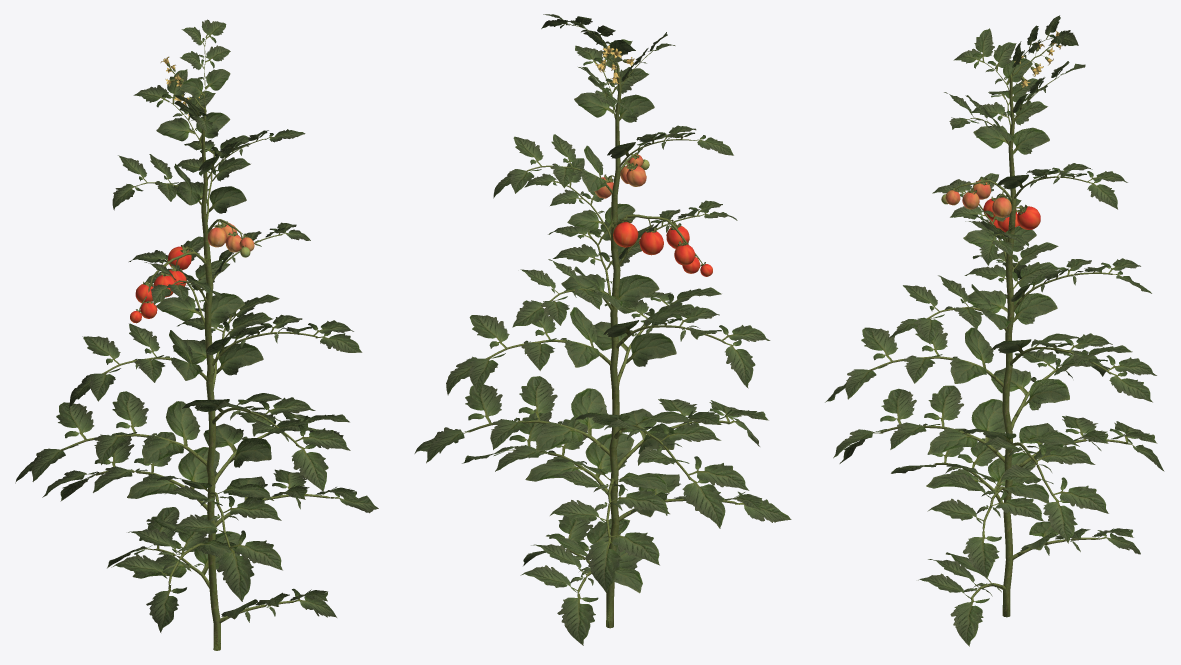
File: tomato5.dae
3 renders of one model, left to right at view 1: azimuth 30°, elevation 25°; view 2: azimuth 150°, elevation 25°; view 3: azimuth 270°, elevation 25°, orthographic. The views are drawn at different scales.
Parts seen in each view (by area): view 1: Leaf2, Leaf1, Branch1, Fruit1, Fruit3; view 2: Leaf2, Leaf1, Branch1, Fruit1, Fruit3; view 3: Leaf2, Leaf1, Branch1, Fruit3, Fruit1.
Boxes of the visible parts, box(x1,y1,x2,y2) form: Leaf2: box(15, 19, 378, 632); Leaf1: box(127, 69, 282, 619); Branch1: box(61, 36, 333, 650); Fruit1: box(130, 246, 191, 323); Fruit3: box(207, 222, 254, 252); Leaf2: box(414, 14, 791, 645); Leaf1: box(525, 30, 694, 593); Branch1: box(468, 24, 737, 628); Fruit1: box(613, 222, 712, 276); Fruit3: box(594, 154, 646, 198); Leaf2: box(825, 15, 1164, 646); Leaf1: box(926, 41, 1079, 583); Branch1: box(869, 38, 1127, 617); Fruit3: box(945, 180, 1011, 217); Fruit1: box(983, 198, 1040, 232).
Bounding box in the file's own units: 0.8874 × 0.82 × 1.57.
